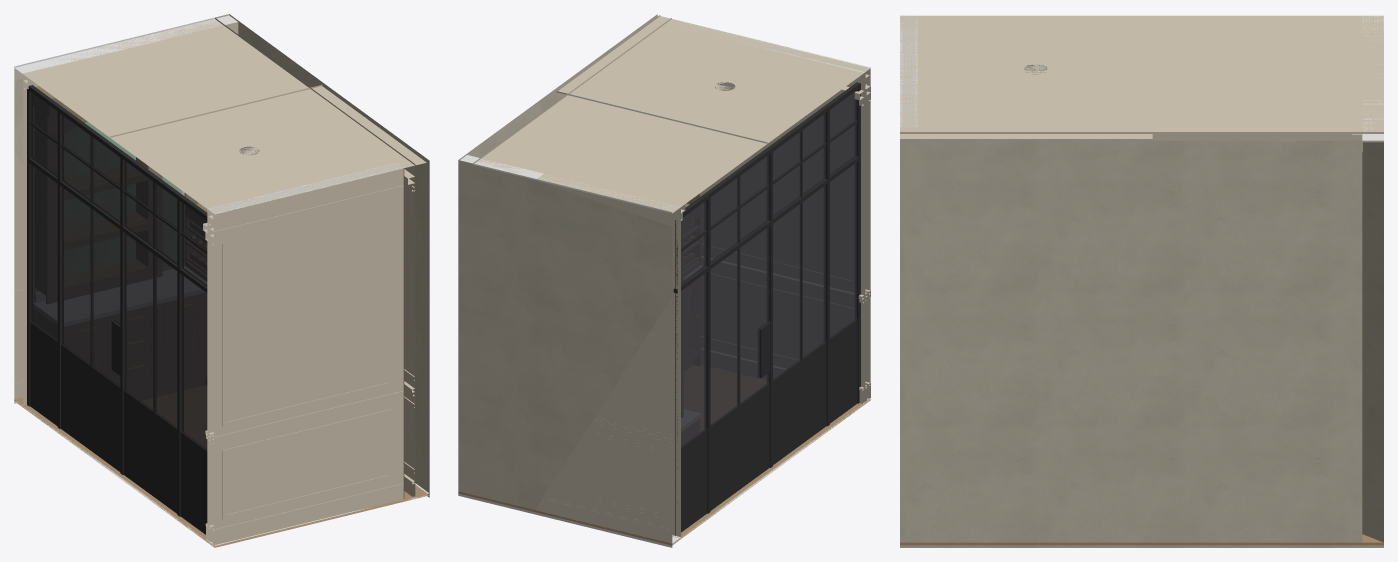
Rendered from wine-cellar-f25620275f0d.glb.
The picture shows the model from 3 angles, left to right: view 1: azimuth 30°, elevation 25°; view 2: azimuth 150°, elevation 25°; view 3: azimuth 270°, elevation 25°; orthographic projection. The views are drawn at different scales.
Parts seen in each view (by area): view 1: wine-cellar-bd4023b7987ad736, wine-cellar-cbd4bf73d9724a66, wine-cellar-2575515a05775d9e, wine-cellar-9a0e9ee9b2a451d7, wine-cellar-37ce92237345380e, wine-cellar-af97eba351c411ae, wine-cellar-78db8eb36c243d8d, wine-cellar-a72fb3d9723cf509, wine-cellar-bfd21f48dd17272b, wine-cellar-bfb9fa537cd11d1d, wine-cellar-3b0077416469e01b, wine-cellar-9329b5775314f375 (+20 smaller); view 2: wine-cellar-bfb9fa537cd11d1d, wine-cellar-cbd4bf73d9724a66, wine-cellar-005133a37c0fb221, wine-cellar-bd4023b7987ad736, wine-cellar-2575515a05775d9e, wine-cellar-9a0e9ee9b2a451d7, wine-cellar-37ce92237345380e, wine-cellar-3b0077416469e01b, wine-cellar-af97eba351c411ae, wine-cellar-f2a242bb00ea19a7, wine-cellar-b50f223d50a24895, wine-cellar-7ab3fc8e91a813ab (+15 smaller); view 3: wine-cellar-af97eba351c411ae, wine-cellar-2575515a05775d9e, wine-cellar-9a0e9ee9b2a451d7, wine-cellar-005133a37c0fb221, wine-cellar-3b0077416469e01b, wine-cellar-bd4023b7987ad736, wine-cellar-76fec1e12e3db62a, wine-cellar-8da509c3b17684ba.
Boxes of the visible parts, x1,y1,x2,y2 form: wine-cellar-bd4023b7987ad736: (207, 163, 404, 545); wine-cellar-cbd4bf73d9724a66: (30, 85, 207, 450); wine-cellar-2575515a05775d9e: (110, 85, 426, 214); wine-cellar-9a0e9ee9b2a451d7: (14, 17, 309, 137); wine-cellar-37ce92237345380e: (30, 321, 207, 534); wine-cellar-af97eba351c411ae: (215, 14, 429, 496); wine-cellar-78db8eb36c243d8d: (35, 107, 162, 303); wine-cellar-a72fb3d9723cf509: (34, 107, 181, 301); wine-cellar-bfd21f48dd17272b: (68, 299, 202, 389); wine-cellar-bfb9fa537cd11d1d: (14, 34, 160, 405); wine-cellar-3b0077416469e01b: (14, 386, 429, 547); wine-cellar-9329b5775314f375: (212, 483, 403, 545); wine-cellar-bfb9fa537cd11d1d: (535, 175, 680, 543); wine-cellar-cbd4bf73d9724a66: (675, 83, 857, 535); wine-cellar-005133a37c0fb221: (458, 159, 543, 509); wine-cellar-bd4023b7987ad736: (677, 22, 871, 402); wine-cellar-2575515a05775d9e: (556, 15, 869, 143); wine-cellar-9a0e9ee9b2a451d7: (472, 94, 767, 213); wine-cellar-37ce92237345380e: (681, 319, 857, 532); wine-cellar-3b0077416469e01b: (458, 365, 870, 545); wine-cellar-af97eba351c411ae: (458, 14, 671, 164); wine-cellar-f2a242bb00ea19a7: (705, 193, 710, 513); wine-cellar-b50f223d50a24895: (824, 105, 829, 426); wine-cellar-7ab3fc8e91a813ab: (855, 82, 860, 403); wine-cellar-af97eba351c411ae: (900, 132, 1383, 542); wine-cellar-2575515a05775d9e: (900, 15, 1152, 140); wine-cellar-9a0e9ee9b2a451d7: (1152, 15, 1383, 131); wine-cellar-005133a37c0fb221: (1362, 99, 1383, 542); wine-cellar-3b0077416469e01b: (900, 534, 1383, 545); wine-cellar-bd4023b7987ad736: (900, 15, 917, 127); wine-cellar-76fec1e12e3db62a: (900, 545, 1383, 547); wine-cellar-8da509c3b17684ba: (1352, 15, 1362, 151).
Bounding box in the file's own units: 2.03 × 3.05 × 3.28.
25 materials, 7 textured.
